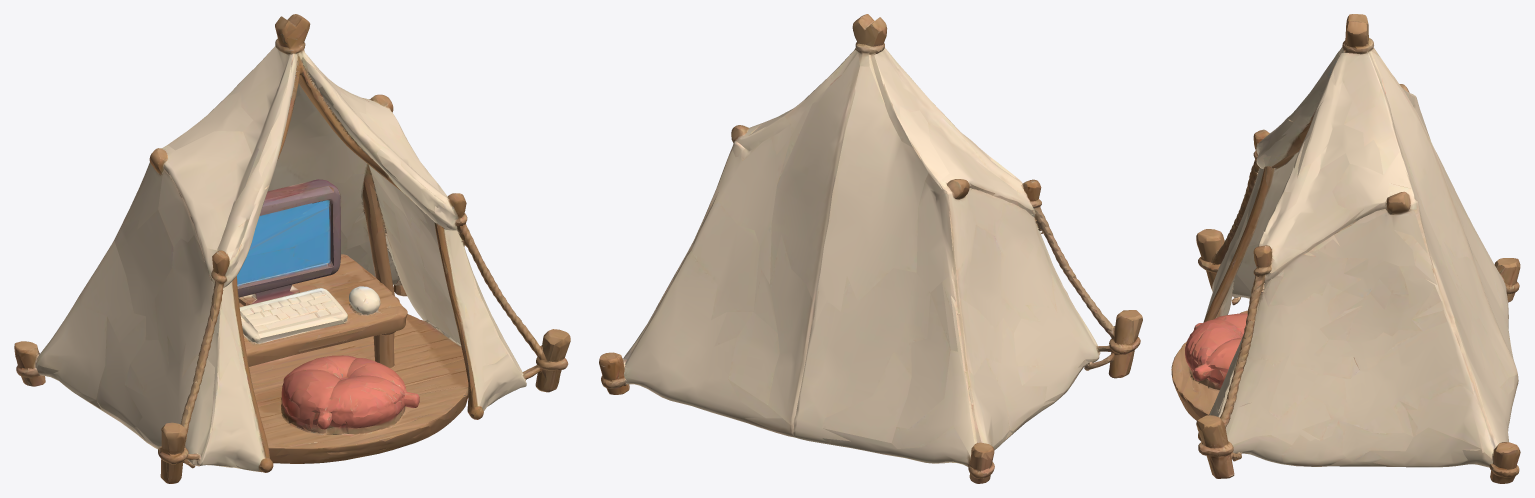
Rendered from tent-workstation-meshy6-web-v1.glb.
The picture shows the model from 3 angles, left to right: view 1: azimuth 30°, elevation 25°; view 2: azimuth 150°, elevation 25°; view 3: azimuth 270°, elevation 25°; orthographic projection. The views are drawn at different scales.
Bounding box in the file's own units: 1.9 × 1.67 × 1.42.
1 material, 1 textured.
